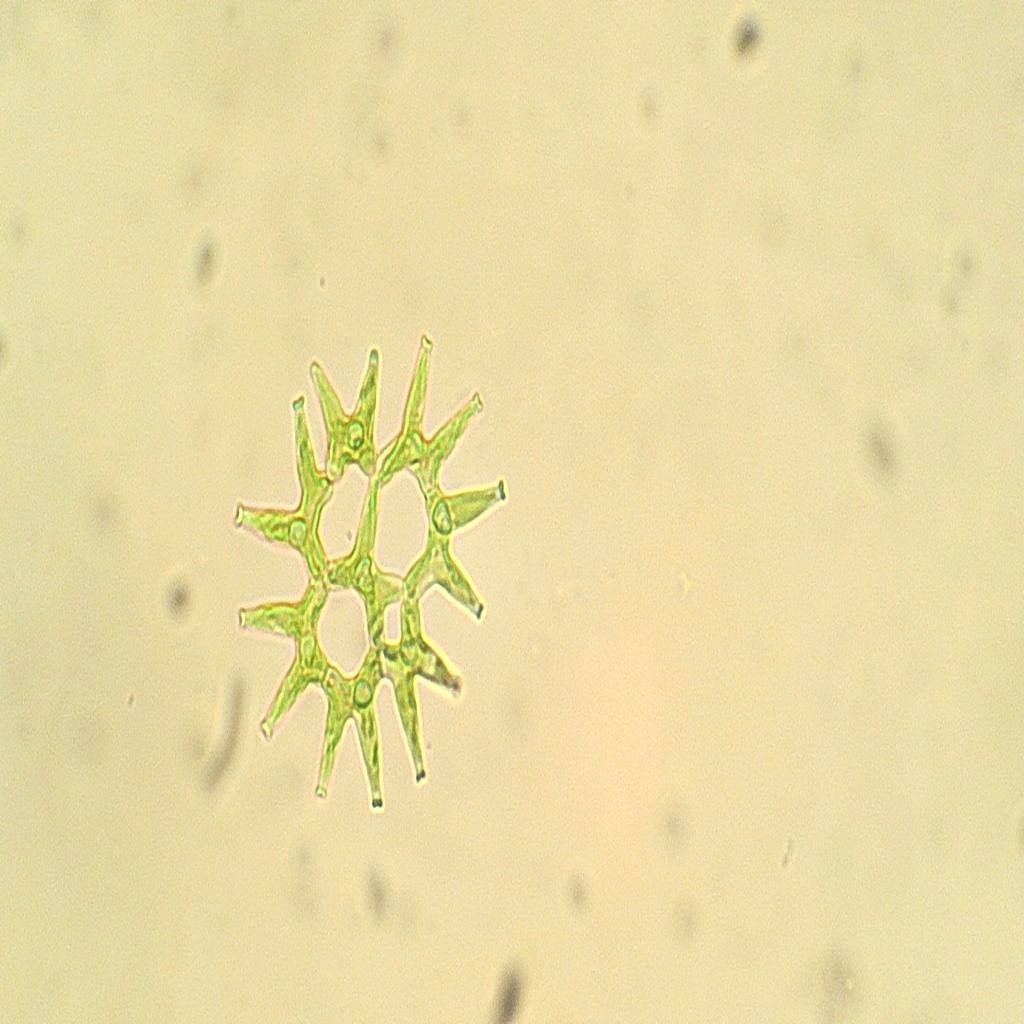Pediastrum_75T: (218, 309, 516, 832)
